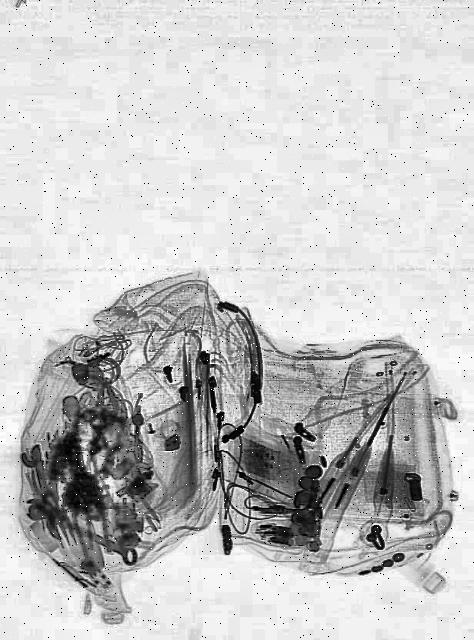Wrench: (22, 492, 141, 570)
